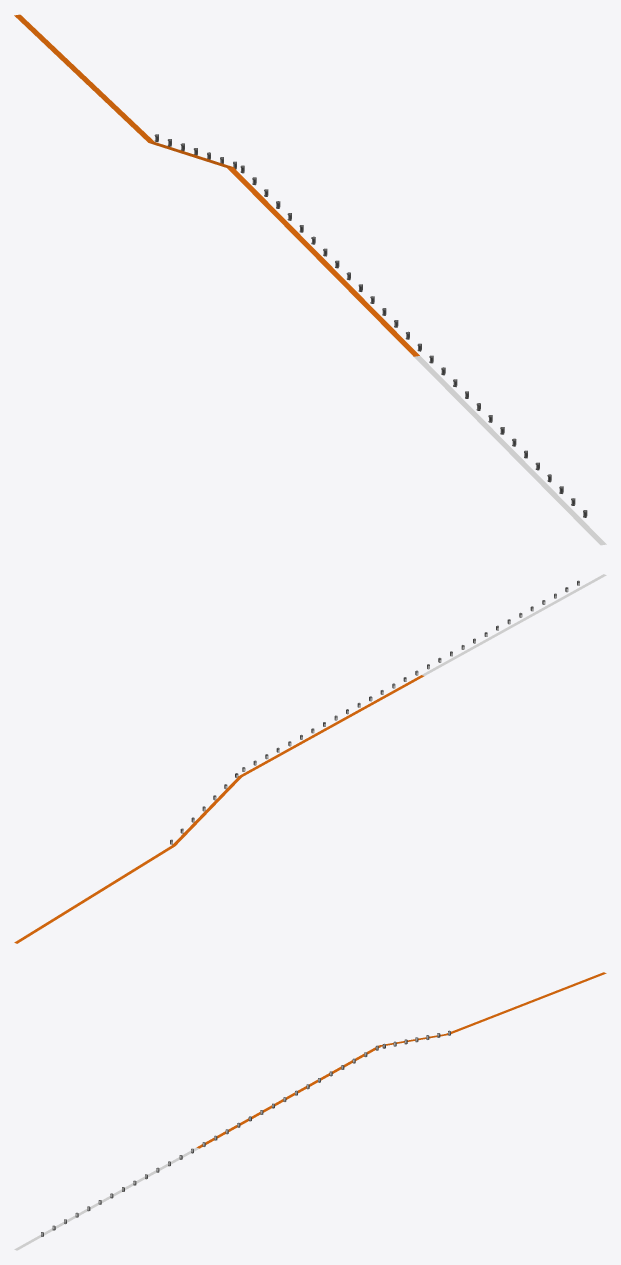
File: Finale_BG.glb
The picture shows the model from 3 angles, top to bottom: view 1: azimuth 30°, elevation 25°; view 2: azimuth 150°, elevation 25°; view 3: azimuth 330°, elevation 25°; orthographic projection. The views are drawn at different scales.
Visible parts, largest first — view 1: Plane.003, Plane.004, Cylinder.001, Plane.001; view 2: Plane.003, Plane.004, Plane.001, Cylinder.001; view 3: Cylinder.001, Plane.004, Plane.003, Plane.001.
Part boxes in pixels (x1,y1,x2,y2): Plane.003: [227, 167, 419, 356]; Plane.004: [414, 356, 606, 545]; Cylinder.001: [240, 165, 587, 517]; Plane.001: [14, 14, 154, 142]; Plane.003: [239, 675, 424, 776]; Plane.004: [422, 574, 606, 675]; Plane.001: [14, 845, 174, 943]; Cylinder.001: [242, 580, 579, 771]; Cylinder.001: [41, 1045, 378, 1236]; Plane.004: [14, 1147, 199, 1250]; Plane.003: [196, 1045, 381, 1148]; Plane.001: [446, 972, 606, 1034].
Bounding box in the file's own units: 124 × 52.99 × 893.
